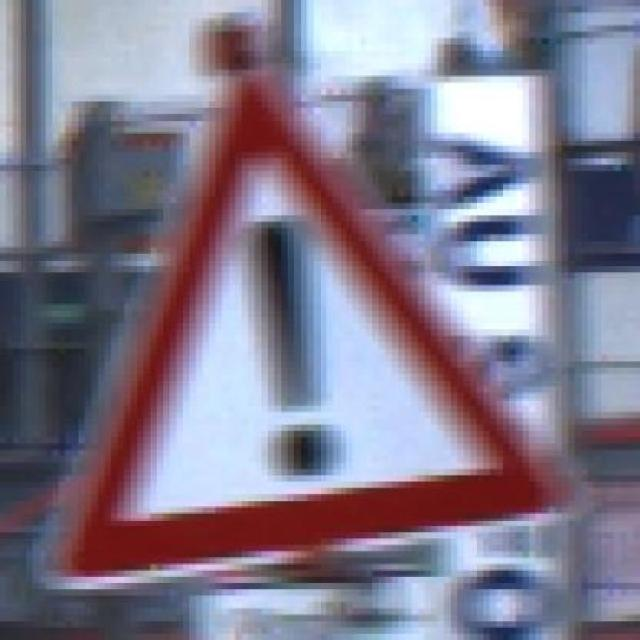Attention Please-: (46, 69, 574, 583)
